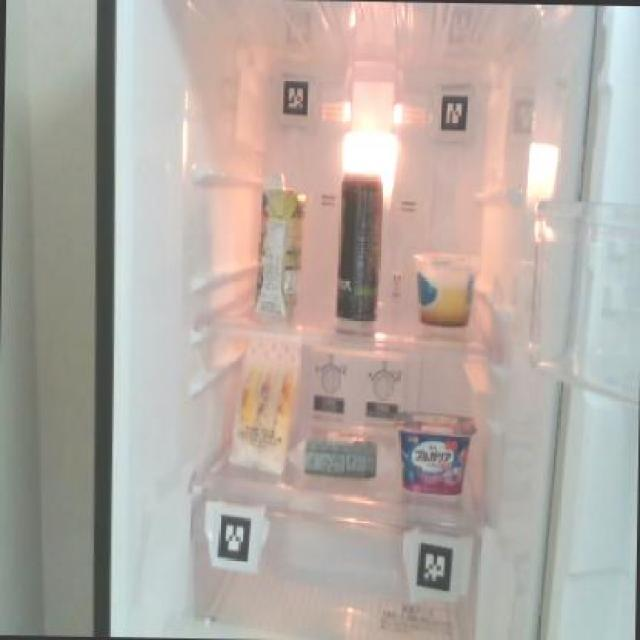energy_drink: (332, 170, 386, 326)
pudding: (411, 246, 478, 328)
rice_ball: (297, 422, 385, 484)
sandwich: (226, 326, 299, 482)
smoothie: (252, 166, 308, 322)
yogurt: (394, 408, 476, 499)
